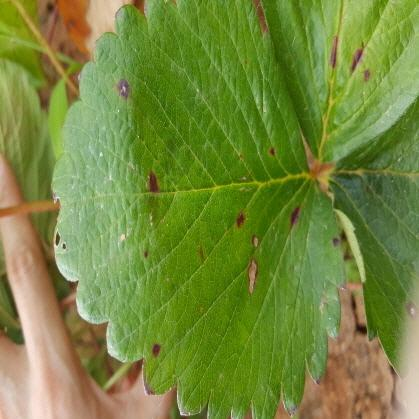Leaf Spot: (51, 0, 348, 418), (321, 95, 418, 382), (259, 0, 418, 162)
